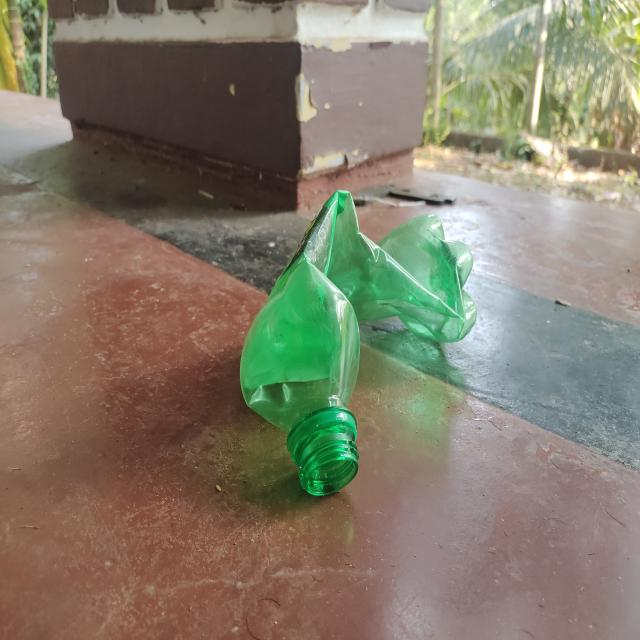plastic: (237, 186, 480, 502)
